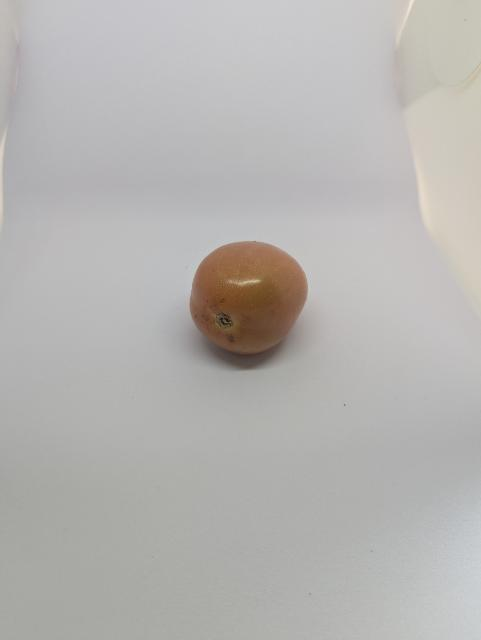turning: (179, 236, 314, 367)
